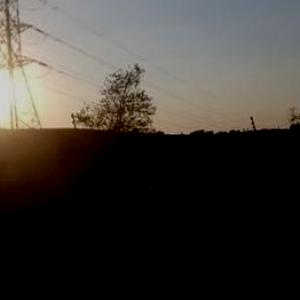follow: (124, 140, 200, 299)
